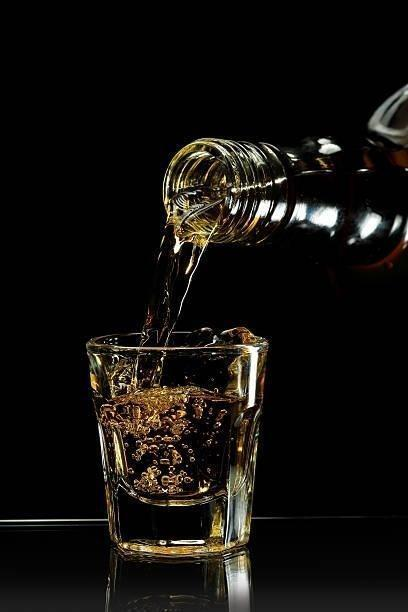glass-normal: (84, 326, 271, 559)
